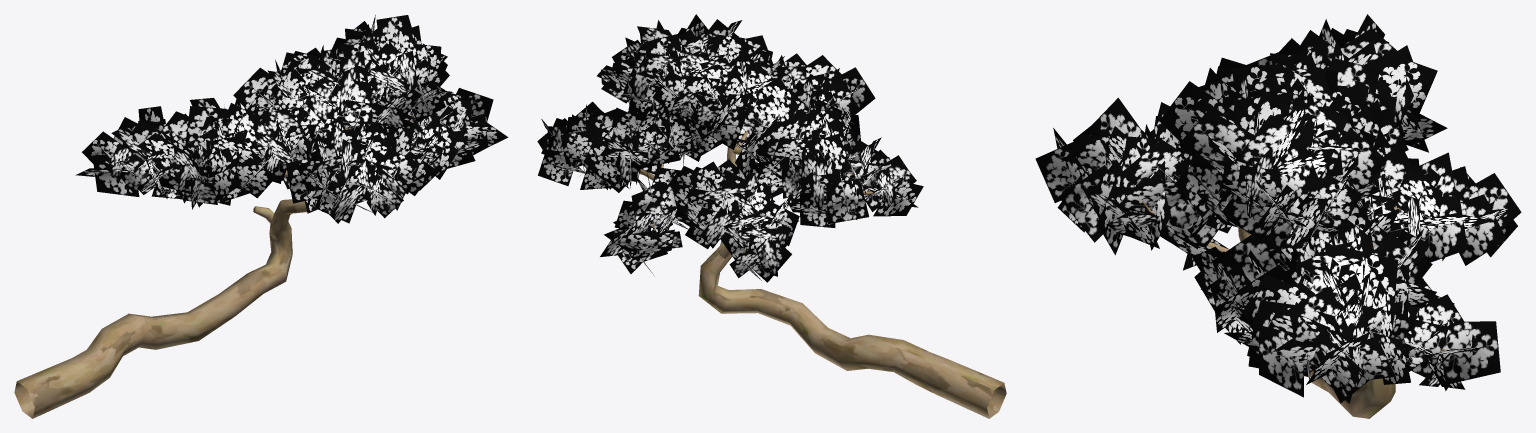
Rendered from P_KnotwoodTreeB01_Gold.obj.
3 renders of one model, left to right at view 1: azimuth 30°, elevation 25°; view 2: azimuth 150°, elevation 25°; view 3: azimuth 270°, elevation 25°, orthographic. The views are drawn at different scales.
Size of the model in its own units: 26.75 by 16.93 by 16.3.
